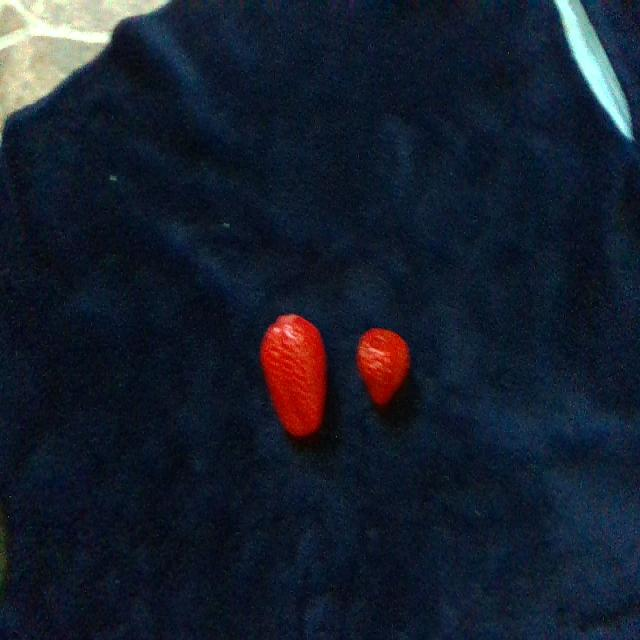chica_roja: (357, 329, 410, 405)
grande_roja: (260, 315, 326, 436)
